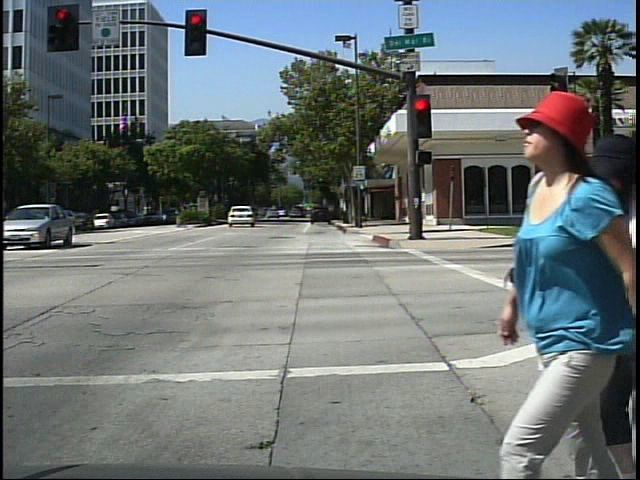person: (500, 83, 638, 480)
